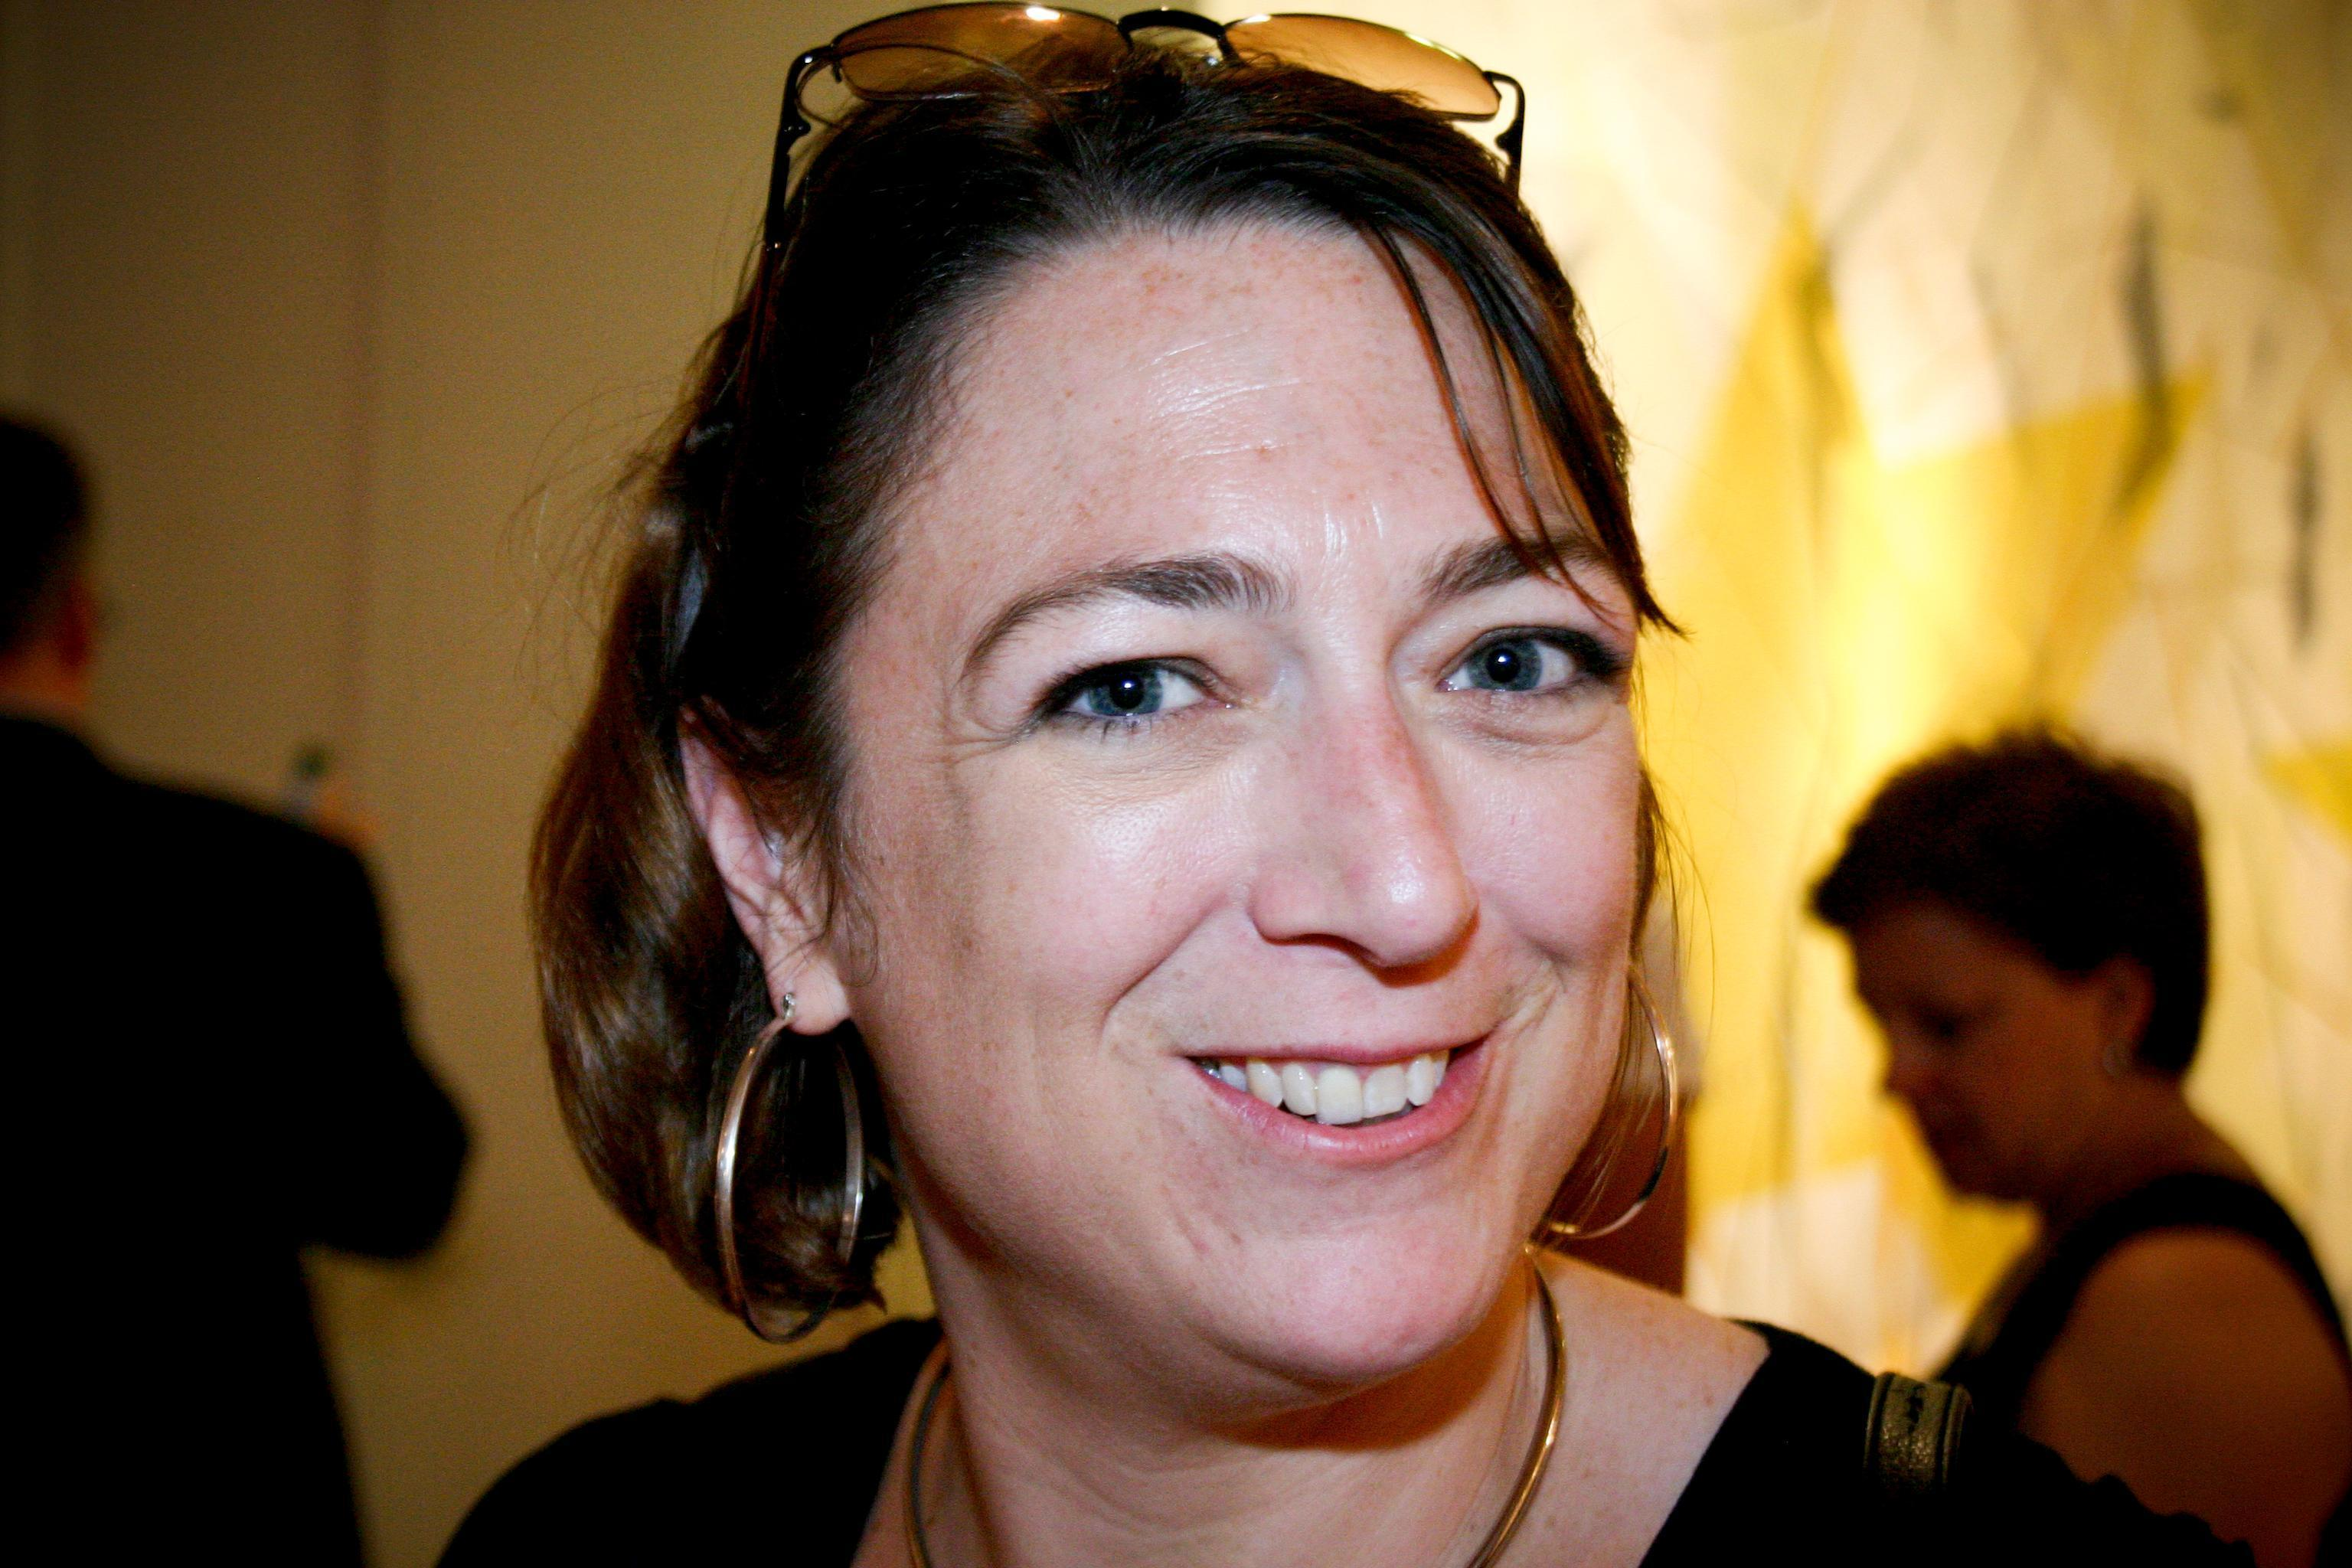Eyebags: (1024, 707, 1269, 807), (1435, 682, 1631, 768)
